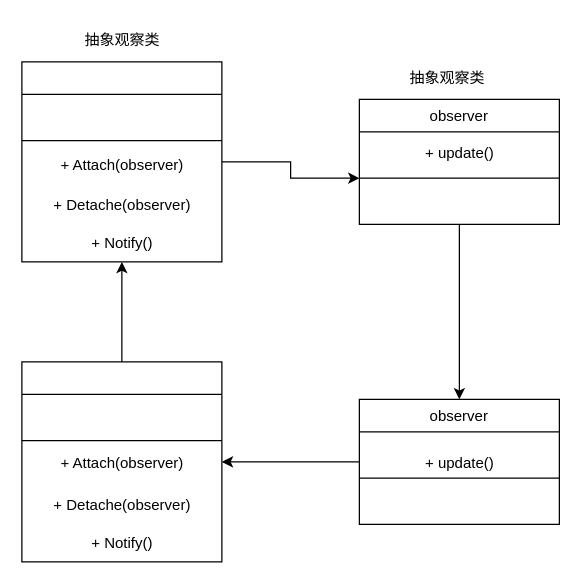
Some shapes in this 581 by 584 pixel diagram are drawn without their labels. The shapes that lost their labels are listed below. From the top down, each one's box as (x1, y1, x2, y2) in pixels, then its label:
(21, 61, 222, 262): subject
(21, 361, 222, 562): concretesubject
